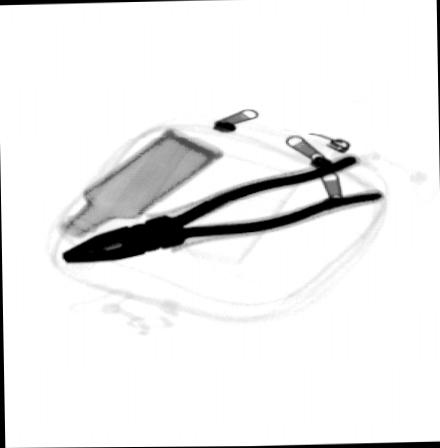Pliers: (59, 152, 384, 262)
